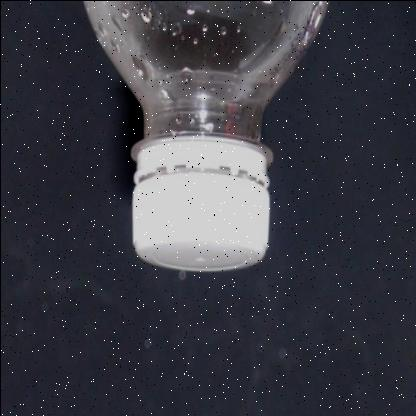Plastic Bottle: (83, 0, 327, 270)
